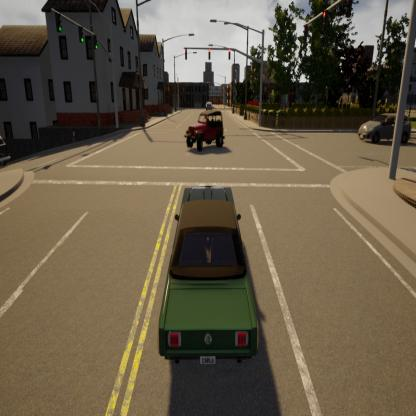Cars: (154, 178, 268, 380), (168, 107, 228, 158), (354, 109, 416, 148), (0, 121, 18, 174), (204, 98, 213, 116)
Pedestrian: (69, 126, 78, 146)
